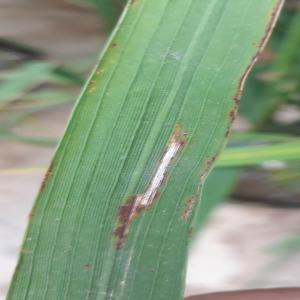Busuk Leher: (142, 130, 181, 212)
